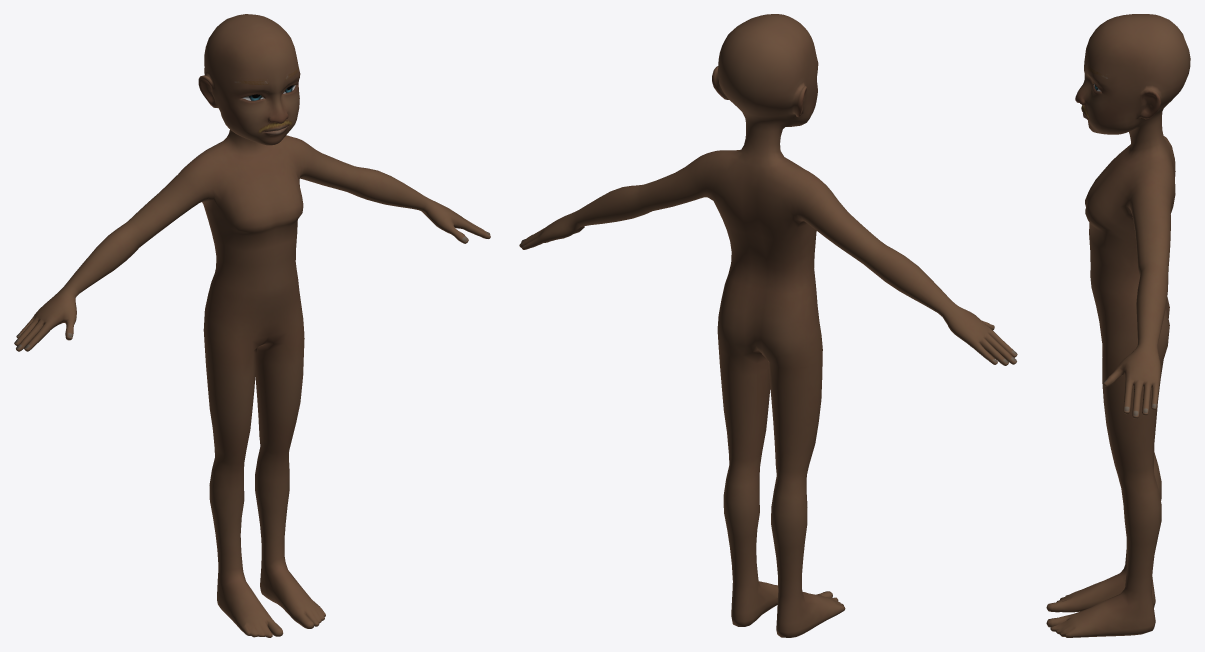
File: frame_0068.glb
3 renders of one model, left to right at view 1: azimuth 30°, elevation 25°; view 2: azimuth 150°, elevation 25°; view 3: azimuth 270°, elevation 25°, orthographic. The views are drawn at different scales.
Parts seen in each view (by area): view 1: frame_0068_head_geo; view 2: frame_0068_head_geo; view 3: frame_0068_head_geo.
Boxes of the visible parts, x1,y1,x2,y2 form: frame_0068_head_geo: [14, 14, 490, 637]; frame_0068_head_geo: [519, 14, 1017, 637]; frame_0068_head_geo: [1046, 14, 1190, 637].
Bounding box in the file's own units: 1.28 × 1.5 × 0.3253.
Materials: 3 (3 with a texture image).
